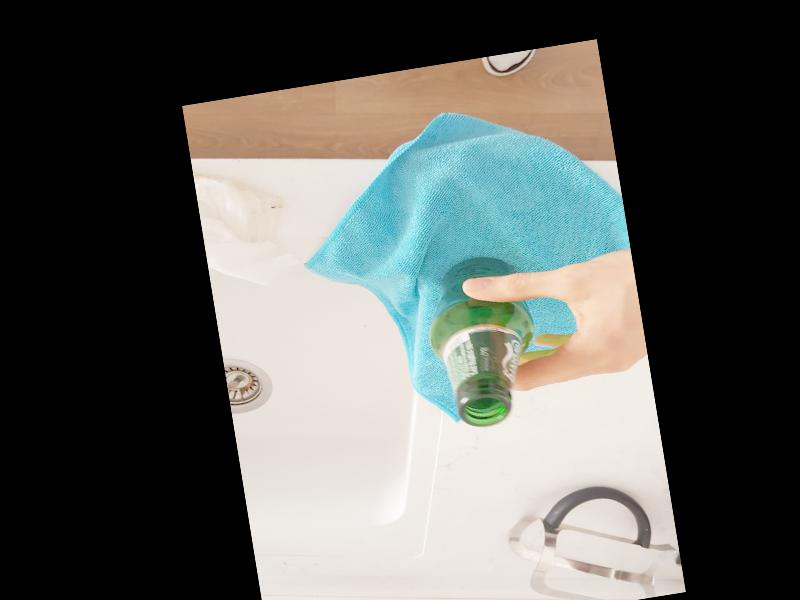Beer: (419, 250, 539, 430)
